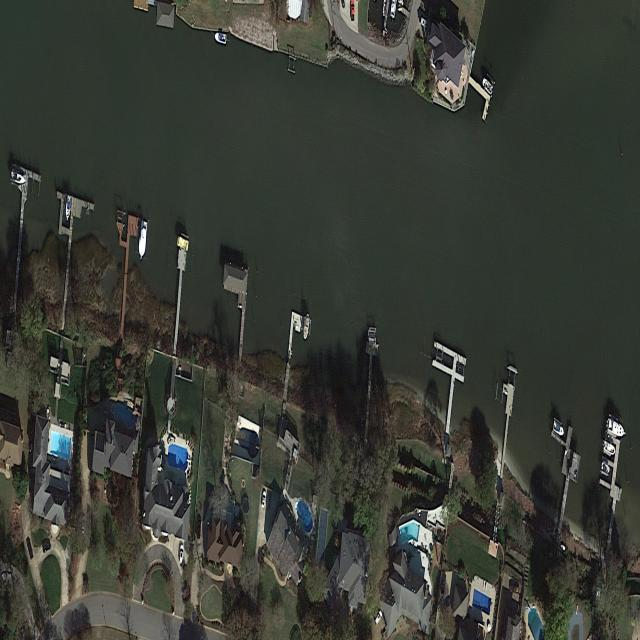ship: (605, 413, 628, 442), (136, 217, 149, 263), (552, 417, 566, 439), (302, 312, 311, 344), (481, 74, 494, 96), (10, 169, 26, 186), (213, 30, 228, 47), (602, 439, 616, 457), (64, 193, 72, 223), (177, 235, 189, 251), (600, 460, 611, 476), (595, 586, 601, 608), (560, 543, 566, 552)
small-vehicle: (26, 535, 34, 561), (374, 608, 384, 628), (418, 13, 428, 30), (42, 541, 52, 555), (178, 544, 185, 564), (196, 517, 202, 539), (509, 582, 519, 595), (261, 489, 267, 509), (350, 0, 354, 21), (81, 514, 85, 534)
